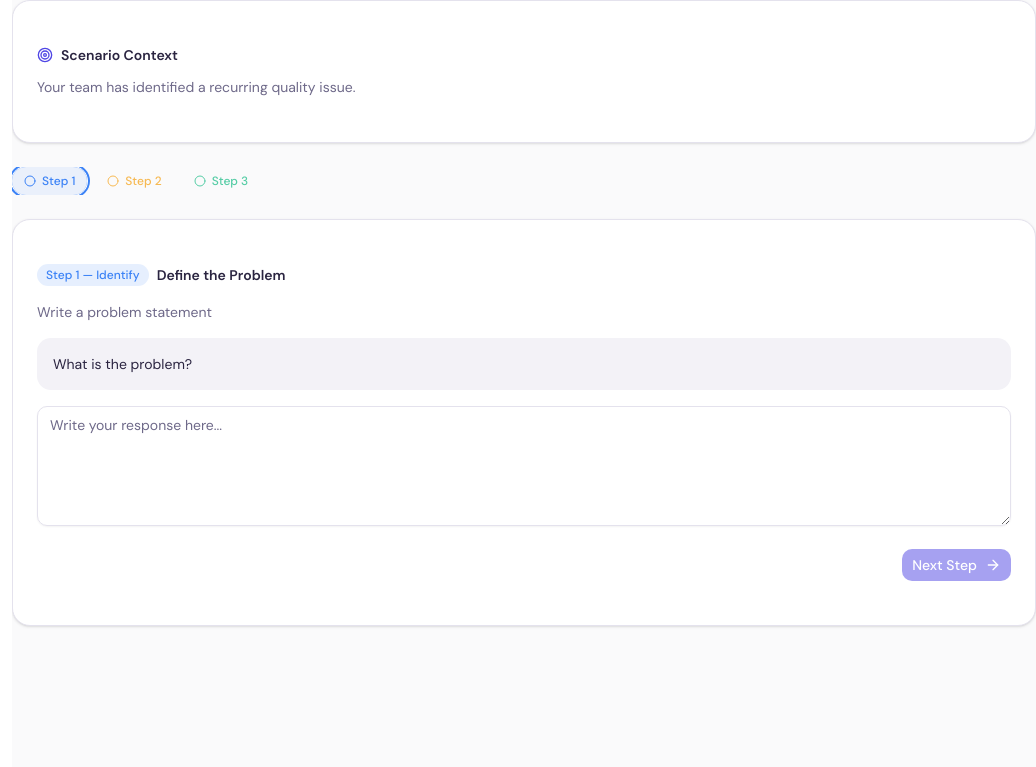
Test case: ScenarioRunner › shows completion message after all steps
Complete all 3 steps
Step 1. Type "Step 1" into the text box → (524, 466), box x1=37 y1=406 x2=1011 y2=526
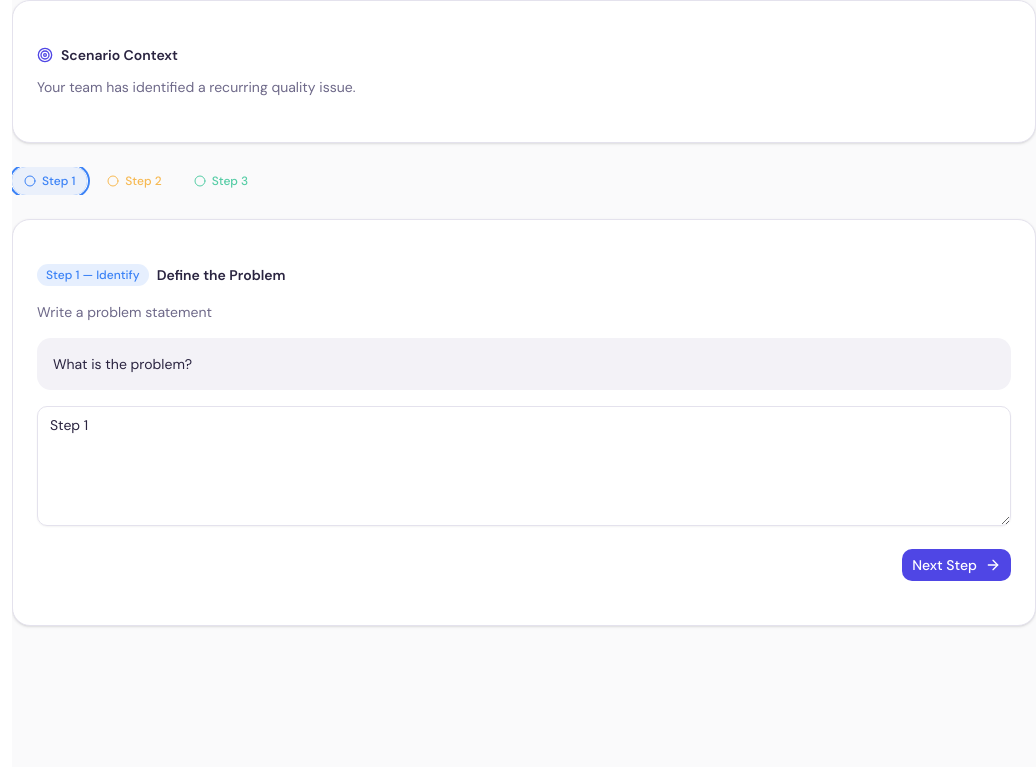
Step 2. Click the button "Next Step" → (957, 565), box x1=902 y1=549 x2=1011 y2=581
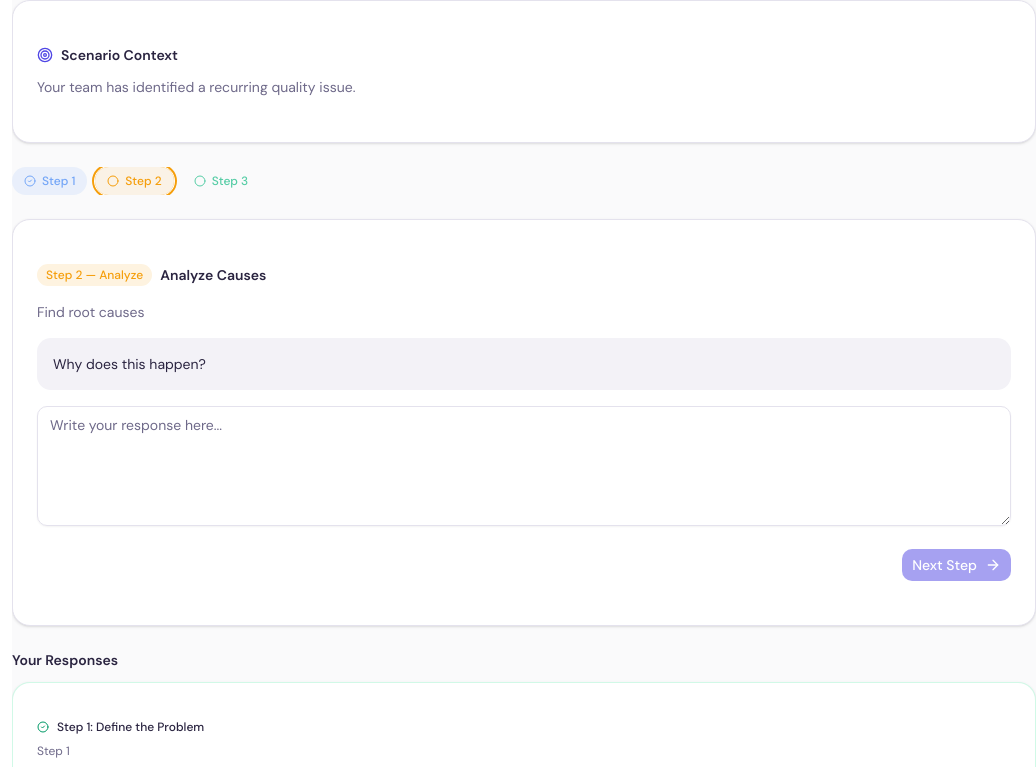
Step 3. Type "Step 2" into the text box → (524, 466), box x1=37 y1=406 x2=1011 y2=526
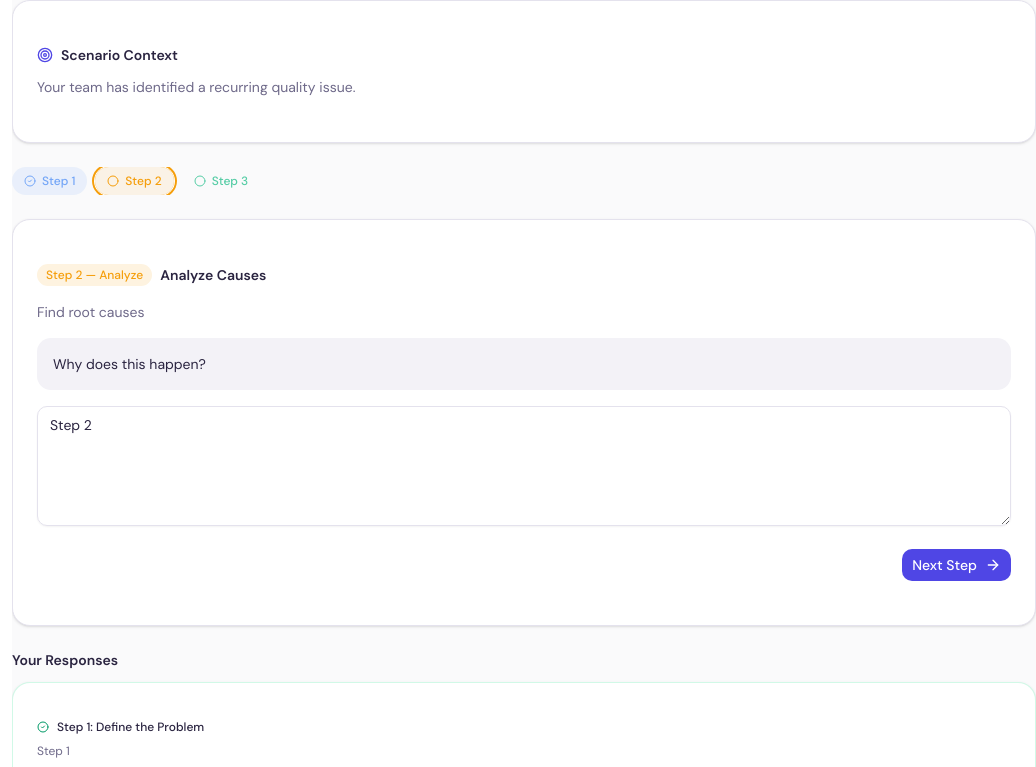
Step 4. Click the button "Next Step" → (957, 565), box x1=902 y1=549 x2=1011 y2=581
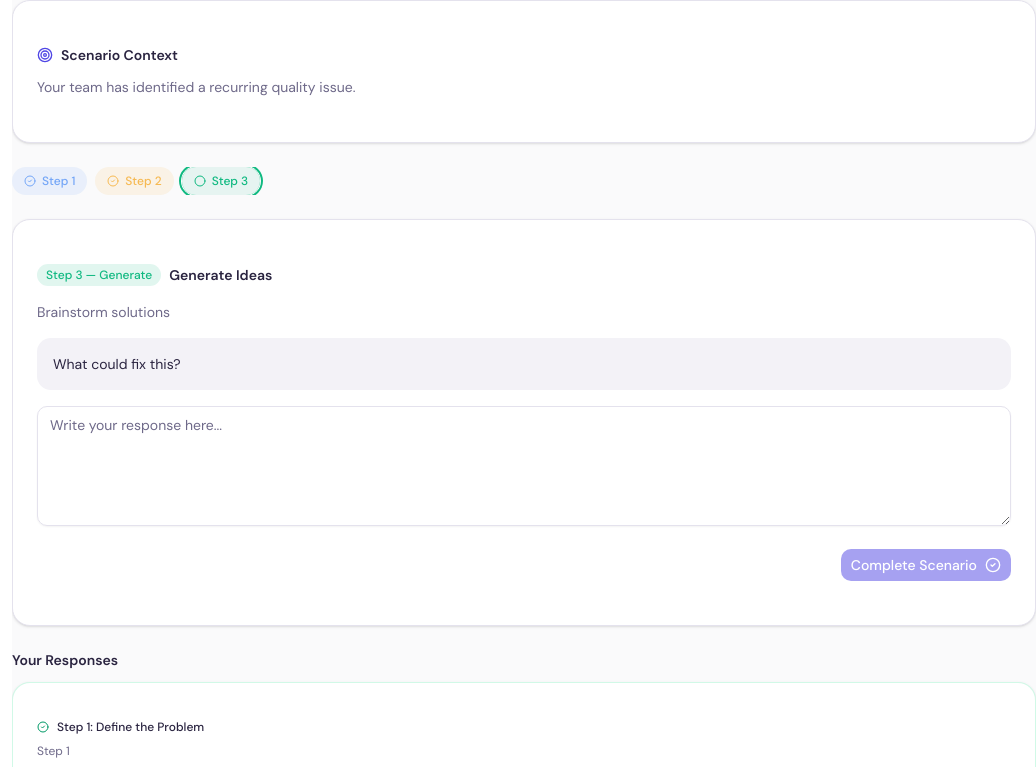
Step 5. Type "Step 3" into the text box → (524, 466), box x1=37 y1=406 x2=1011 y2=526
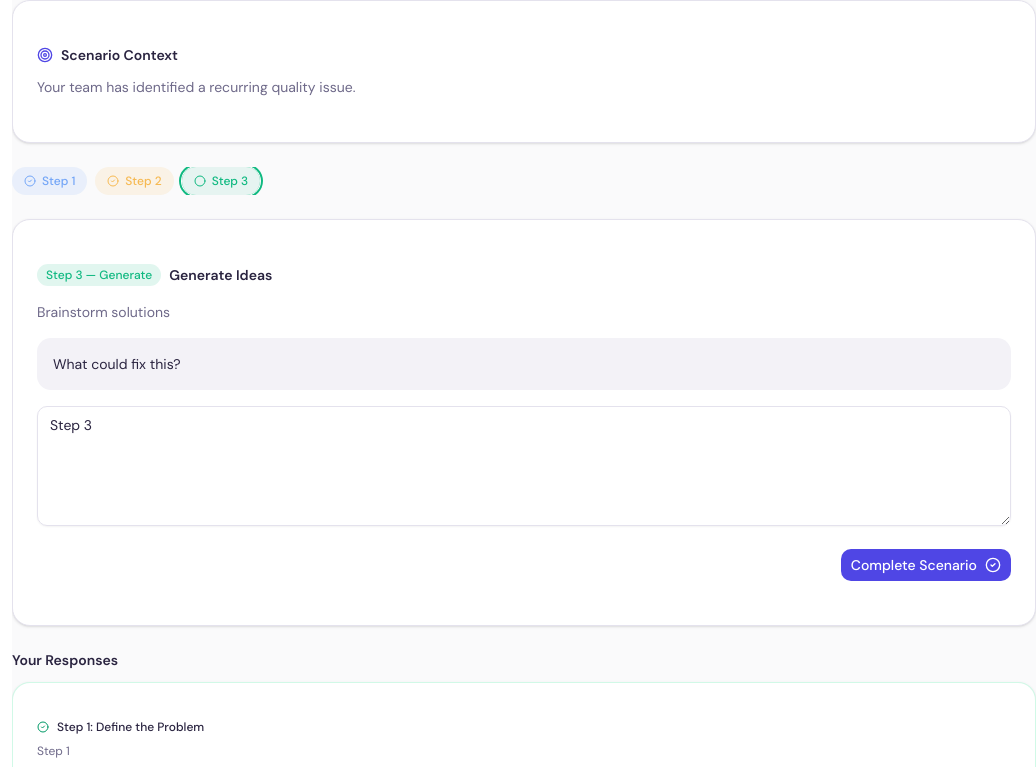
Step 6. Click the button "Complete Scenario" → (926, 565), box x1=841 y1=549 x2=1011 y2=581
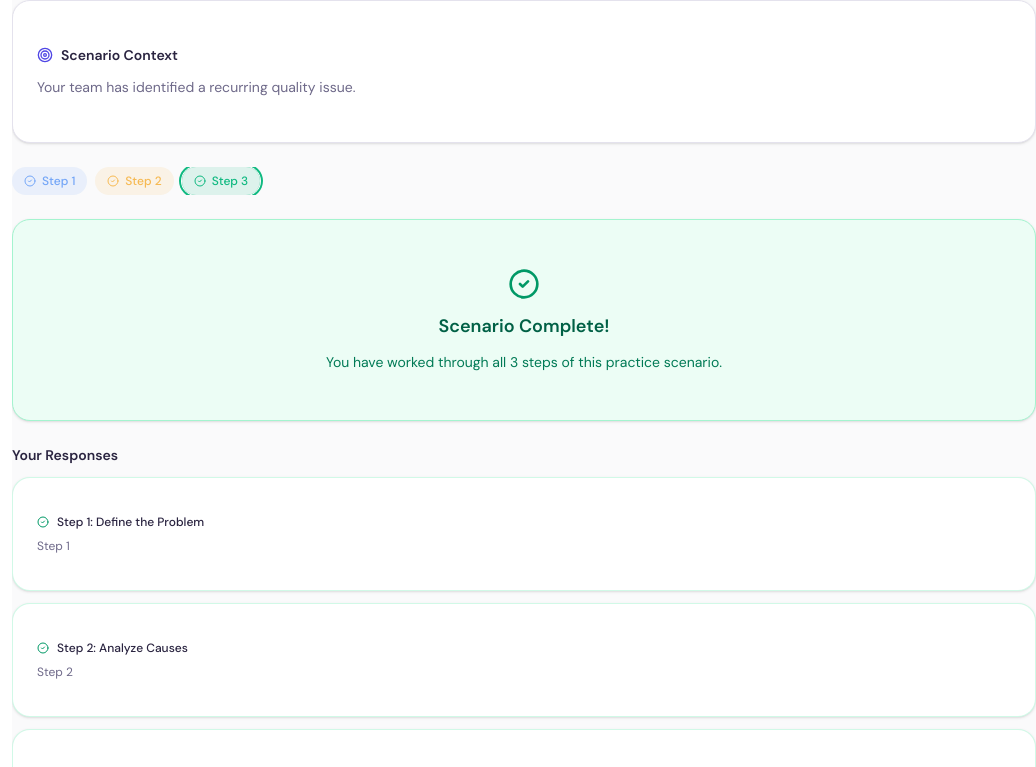
Expected: the heading "Scenario Complete!" is shown, x1=438 y1=314 x2=610 y2=338
